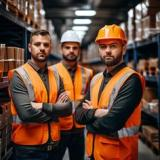Helmet: (96, 24, 128, 46), (59, 30, 83, 44)
Vest: (86, 66, 146, 160), (8, 62, 60, 148), (46, 62, 93, 132)
